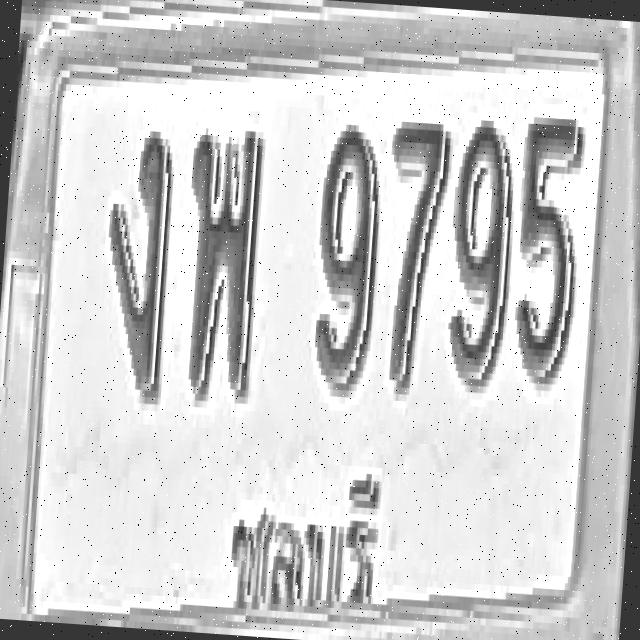16NgorNgu: (96, 121, 176, 404)
39PhorPan: (176, 120, 266, 404)
5: (508, 109, 585, 385)
7: (374, 114, 452, 396)
9: (308, 119, 386, 395), (444, 111, 518, 388)
Chonburi: (212, 454, 400, 620)
